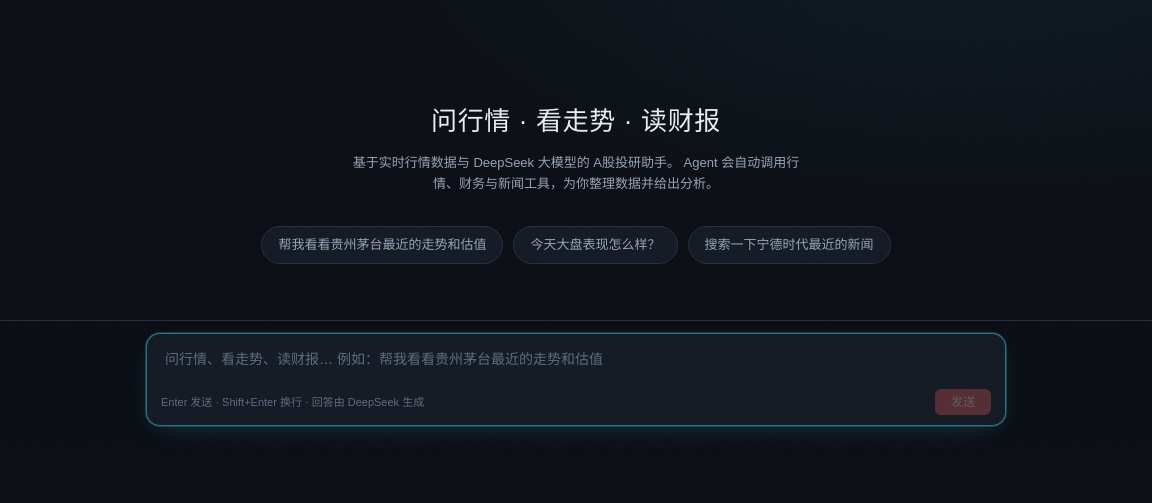
ThreadArea › 非 401 错误仍展示 sendError 且不跳登录
The image size is (1152, 503).
Expected: the text "问行情 · 看走势 · 读财报" is shown, top-left (431, 104), bottom-right (721, 140)
issue #27 闸门：发送需等当前线程回灌完成（setMessages 被调即回灌落地）
Click the button "帮我看看贵州茅台最近的走势和估值": (382, 245) top-left (262, 226), bottom-right (504, 264)
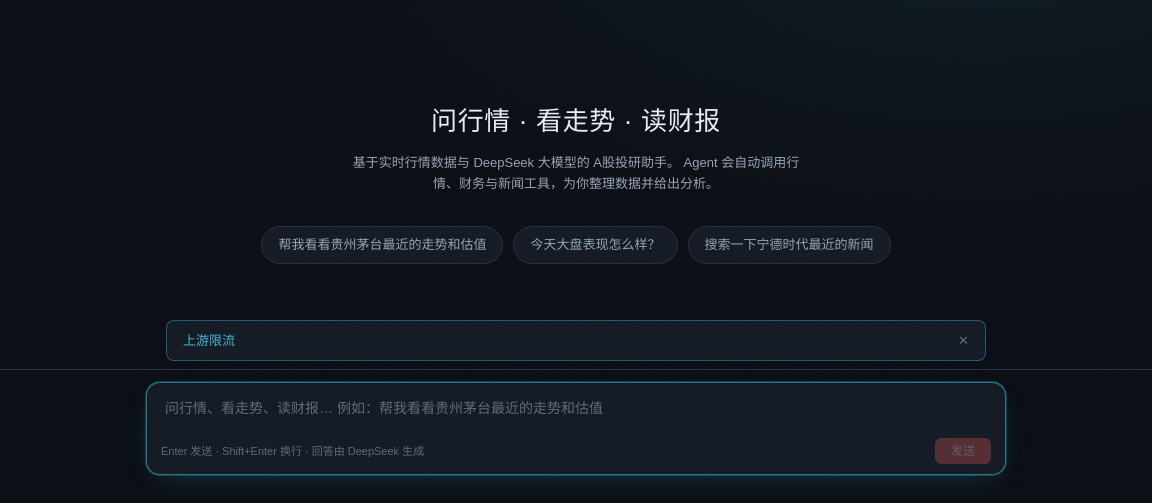
Expected: the text "上游限流" is shown, top-left (183, 330), bottom-right (235, 350)
